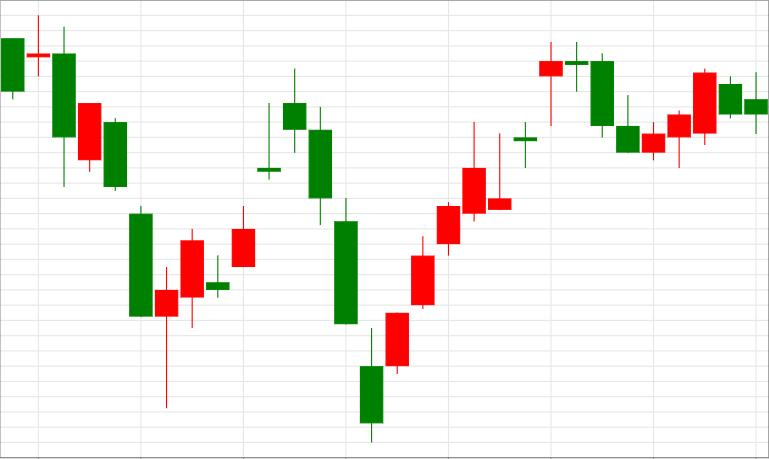three_white_soldiers_rise: (283, 69, 461, 442)
